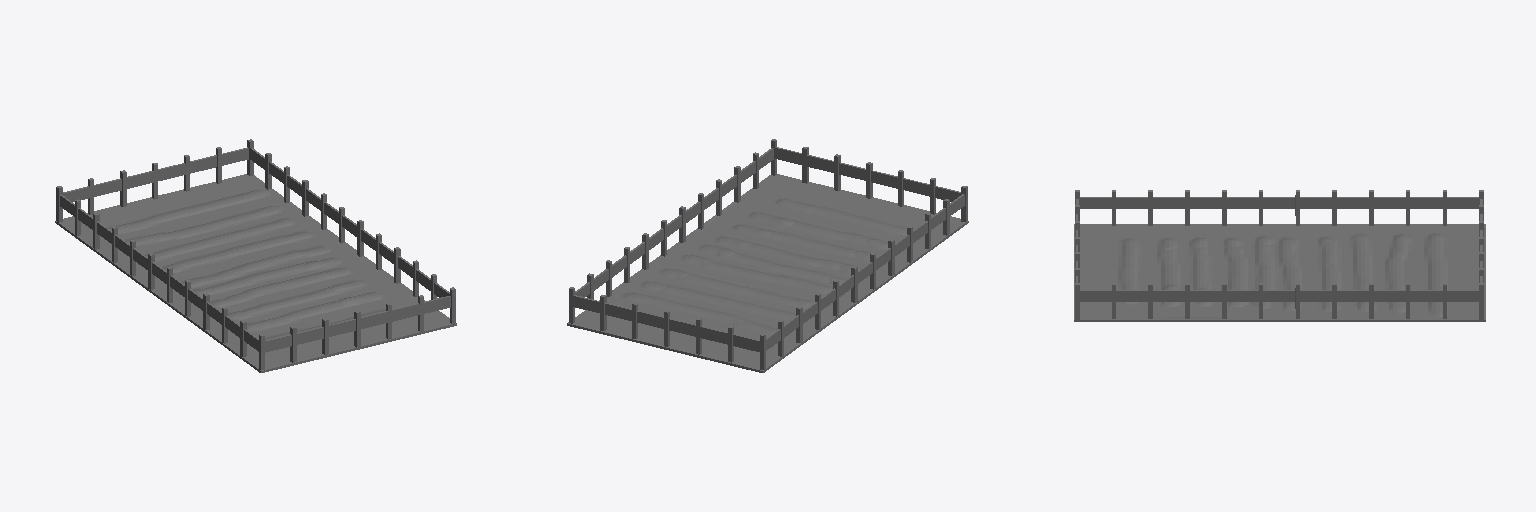
File: farmtextured.obj
The picture shows the model from 3 angles: view 1: azimuth 30°, elevation 25°; view 2: azimuth 150°, elevation 25°; view 3: azimuth 270°, elevation 25°; orthographic projection.
Visible parts, largest first — view 1: group5 pPlane1, pCube1 group5, pCube38 polySurface37, pCube38 polySurface26, pCube38 polySurface22, pCube38 polySurface39, pCube38 polySurface27, pCube38 polySurface14, pCube38 polySurface18, pCube38 polySurface16; view 2: group5 pPlane1, pCube1 group5, pCube38 polySurface21, pCube38 polySurface27, pCube38 polySurface22, pCube38 polySurface18, pCube38 polySurface17, pCube38 polySurface37, pCube38 polySurface26, pCube38 polySurface14, pCube38 polySurface23, pCube38 polySurface15; view 3: group5 pPlane1, pCube1 group5, pCube38 polySurface7, pCube38 polySurface9, pCube38 polySurface31, pCube38 polySurface33, pCube38 polySurface2, pCube38 polySurface36, pCube38 polySurface35, pCube38 polySurface10, pCube38 polySurface13, pCube38 polySurface19 (+10 smaller).
Part boxes in pixels (left/top/right/bottom): group5 pPlane1: left=69, top=177, right=449, bottom=365; pCube1 group5: left=55, top=174, right=456, bottom=372; pCube38 polySurface37: left=94, top=170, right=126, bottom=206; pCube38 polySurface26: left=297, top=318, right=328, bottom=354; pCube38 polySurface22: left=329, top=311, right=360, bottom=347; pCube38 polySurface39: left=265, top=326, right=296, bottom=362; pCube38 polySurface27: left=190, top=147, right=221, bottom=183; pCube38 polySurface14: left=158, top=155, right=189, bottom=191; pCube38 polySurface18: left=392, top=295, right=423, bottom=331; pCube38 polySurface16: left=424, top=287, right=455, bottom=323; group5 pPlane1: left=575, top=176, right=955, bottom=364; pCube1 group5: left=567, top=174, right=968, bottom=372; pCube38 polySurface21: left=834, top=154, right=865, bottom=190; pCube38 polySurface27: left=600, top=295, right=631, bottom=330; pCube38 polySurface22: left=866, top=162, right=897, bottom=198; pCube38 polySurface18: left=802, top=147, right=833, bottom=183; pCube38 polySurface17: left=728, top=326, right=759, bottom=362; pCube38 polySurface37: left=696, top=318, right=727, bottom=354; pCube38 polySurface26: left=898, top=170, right=929, bottom=206; pCube38 polySurface14: left=632, top=302, right=663, bottom=338; pCube38 polySurface23: left=664, top=310, right=695, bottom=346; pCube38 polySurface15: left=569, top=287, right=599, bottom=323; group5 pPlane1: left=1083, top=228, right=1474, bottom=318; pCube1 group5: left=1074, top=224, right=1485, bottom=321; pCube38 polySurface7: left=1190, top=190, right=1226, bottom=225; pCube38 polySurface9: left=1337, top=190, right=1373, bottom=225; pCube38 polySurface31: left=1300, top=283, right=1336, bottom=318; pCube38 polySurface33: left=1337, top=283, right=1373, bottom=318; pCube38 polySurface2: left=1116, top=283, right=1152, bottom=318; pCube38 polySurface36: left=1153, top=283, right=1189, bottom=318; pCube38 polySurface35: left=1190, top=283, right=1226, bottom=318; pCube38 polySurface10: left=1300, top=190, right=1336, bottom=225; pCube38 polySurface13: left=1153, top=190, right=1189, bottom=225; pCube38 polySurface19: left=1116, top=190, right=1152, bottom=225.
Bounding box in the file's own units: 5.44 × 0.9782 × 9.9.